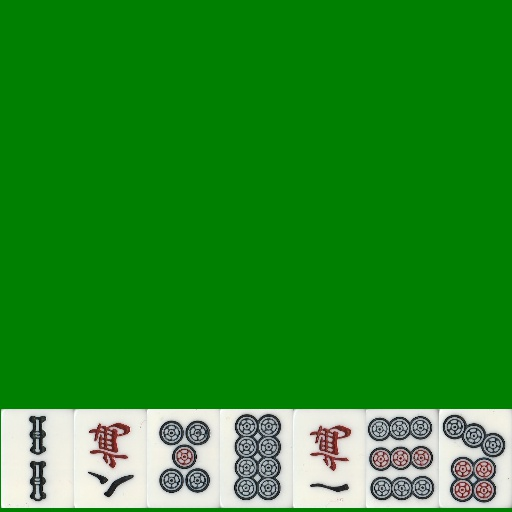1m: (293, 409, 366, 508)
2s: (1, 409, 74, 508)
5p: (147, 409, 220, 508)
7p: (439, 409, 512, 508)
8m: (74, 409, 147, 508)
8p: (220, 409, 293, 508)
9p: (366, 409, 439, 508)
